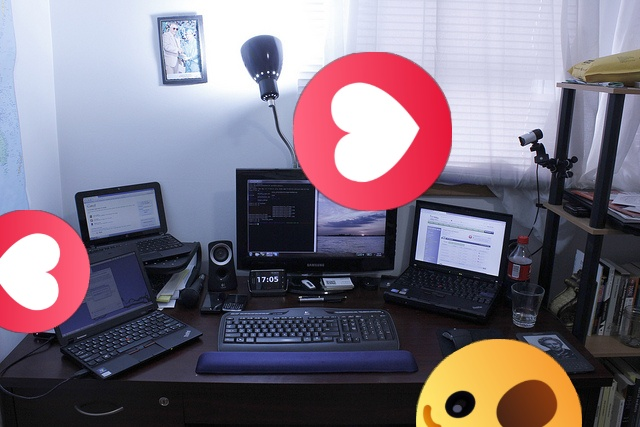love: (293, 52, 452, 211), (0, 210, 90, 333)
wow: (416, 339, 582, 427)
